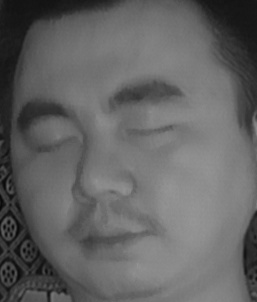blink: (126, 111, 176, 146), (30, 126, 79, 161)
mouth: (68, 209, 155, 263)
